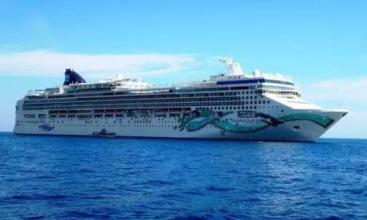youlun: (8, 59, 347, 137)
